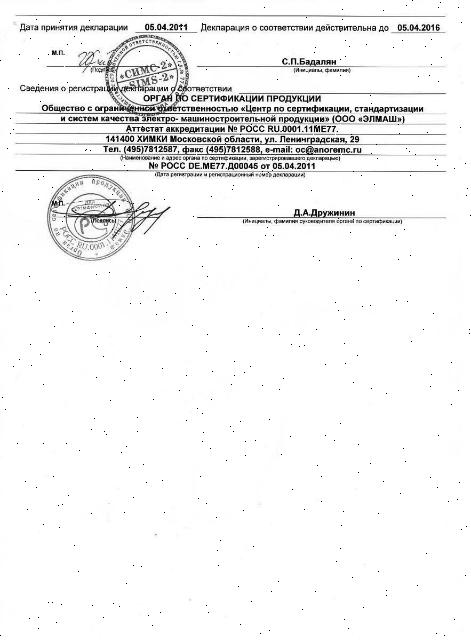stamp: (46, 175, 136, 261), (107, 34, 185, 110)
